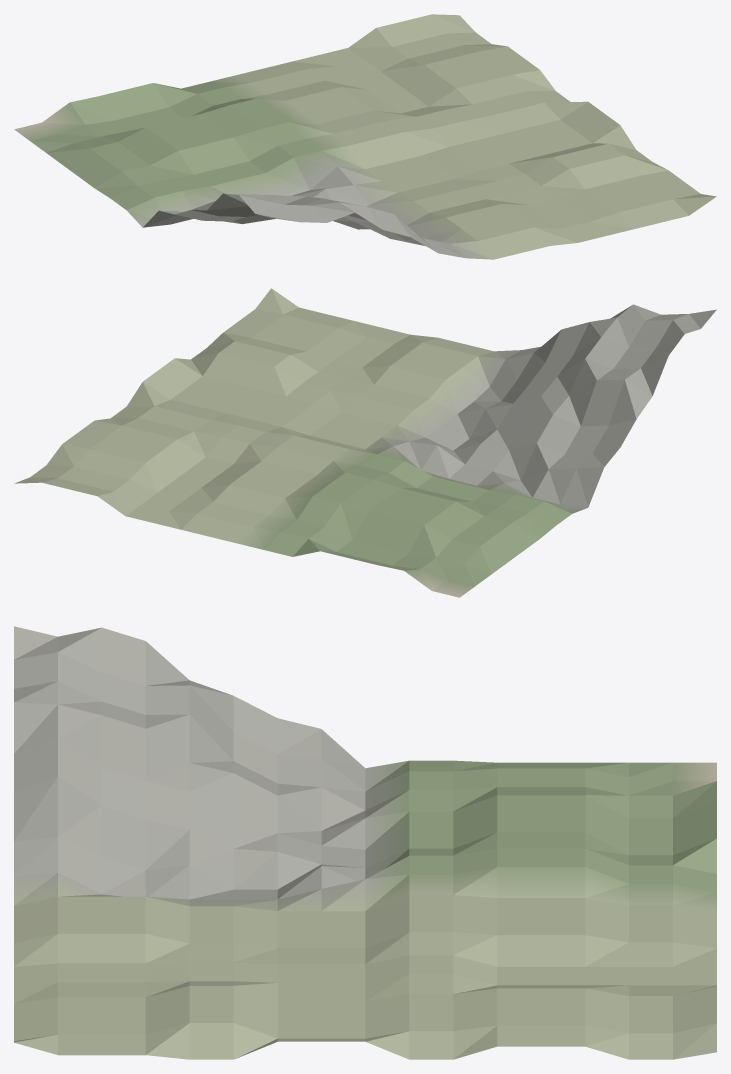
3 views of the same model, one above another, from view 1: azimuth 30°, elevation 25°; view 2: azimuth 150°, elevation 25°; view 3: azimuth 270°, elevation 25° (orthographic). The views are drawn at different scales.
Size of the model in its own units: 32 by 7.63 by 32.
